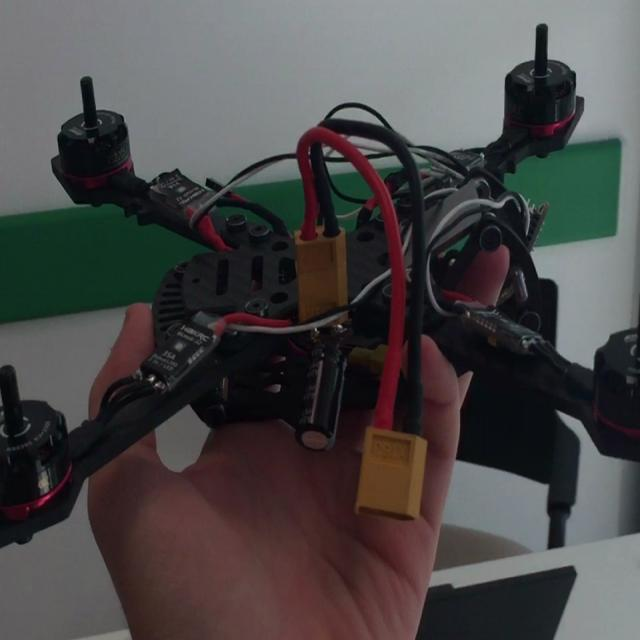drone: (0, 8, 640, 544)
